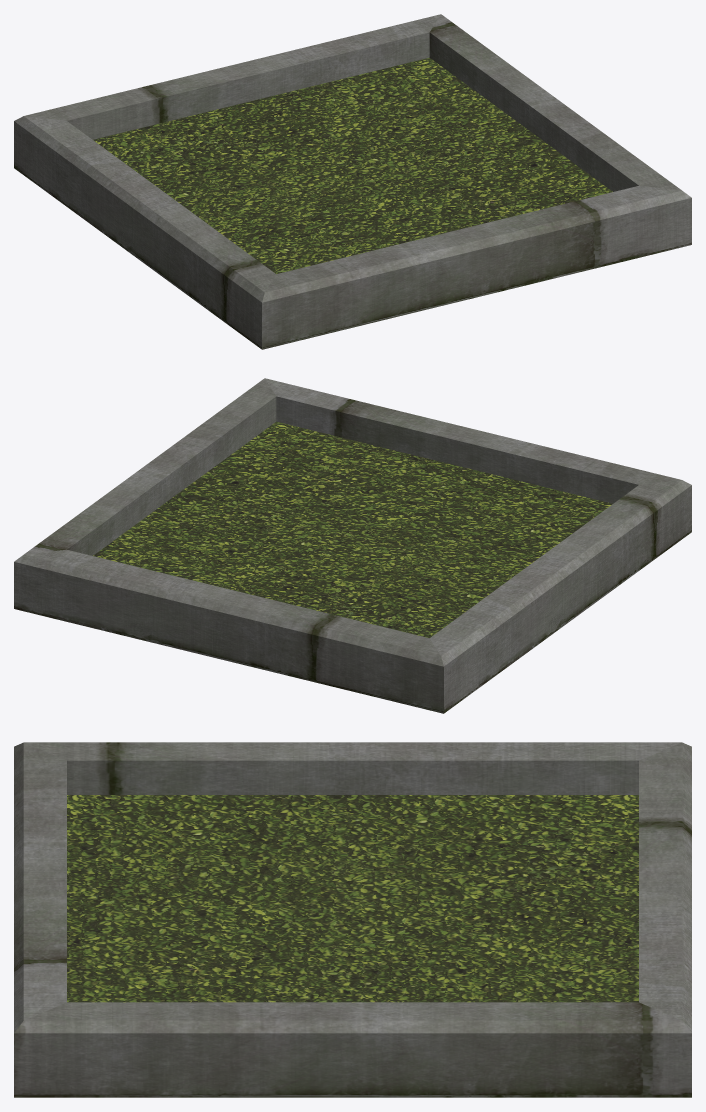
Rendered from Trees.fbx.
3 views of the same model, one above another, from view 1: azimuth 30°, elevation 25°; view 2: azimuth 150°, elevation 25°; view 3: azimuth 270°, elevation 25° (orthographic). The views are drawn at different scales.
Parts seen in each view (by area): view 1: KB3D_BRK_BldgSM_I_Tree; view 2: KB3D_BRK_BldgSM_I_Tree; view 3: KB3D_BRK_BldgSM_I_Tree.
Part boxes in pixels (x1,y1,x2,y2): KB3D_BRK_BldgSM_I_Tree: [14, 14, 691, 349]; KB3D_BRK_BldgSM_I_Tree: [14, 378, 691, 713]; KB3D_BRK_BldgSM_I_Tree: [14, 742, 691, 1097].
Bounding box in the file's own units: 183 × 21.71 × 183.
